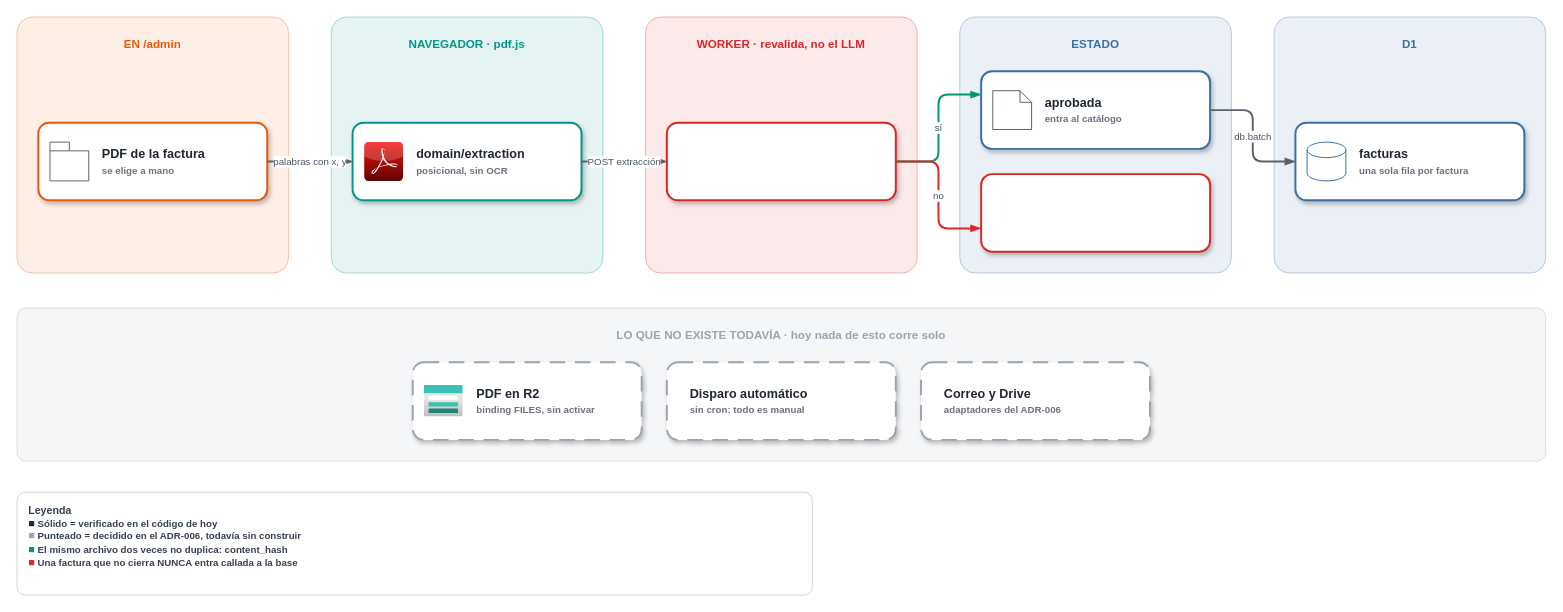
Image size: 1563x612. Some labels were removed from this diagram. The centre of each missing label's shape, as x and y in pixels:
"needs_review se aprueba o descarta" belongs at [1096,214].
"¿Los totales cuadran? mismas reglas de domain/" belongs at [782,162].
